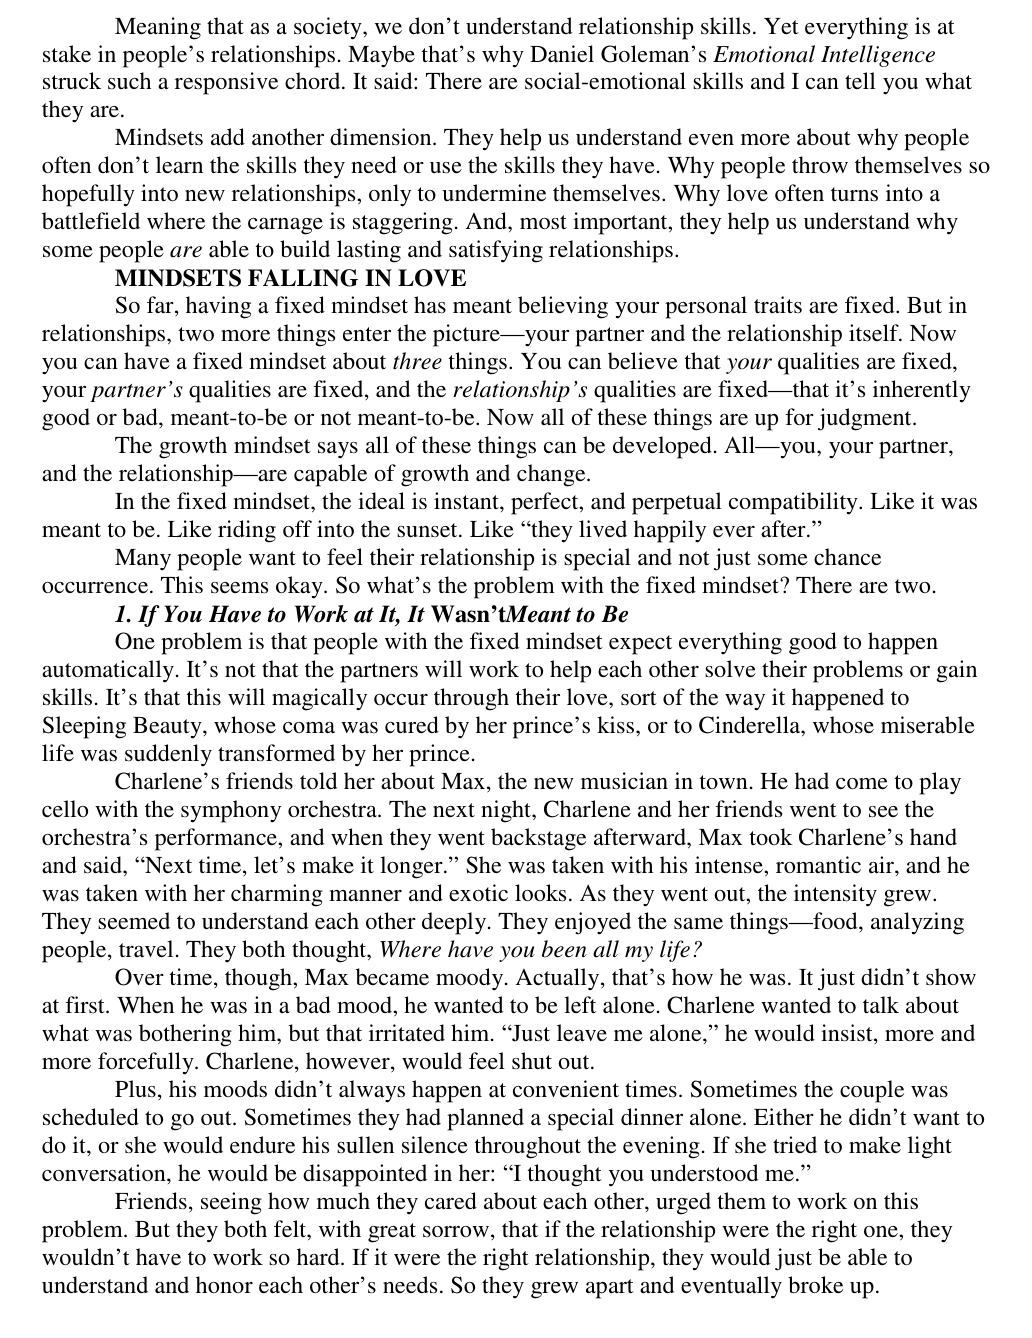latin: (38, 292, 982, 602), (30, 968, 989, 1187), (34, 769, 991, 962), (34, 602, 981, 769), (38, 125, 993, 267), (40, 1187, 958, 1302), (38, 16, 981, 125), (113, 266, 470, 285)
